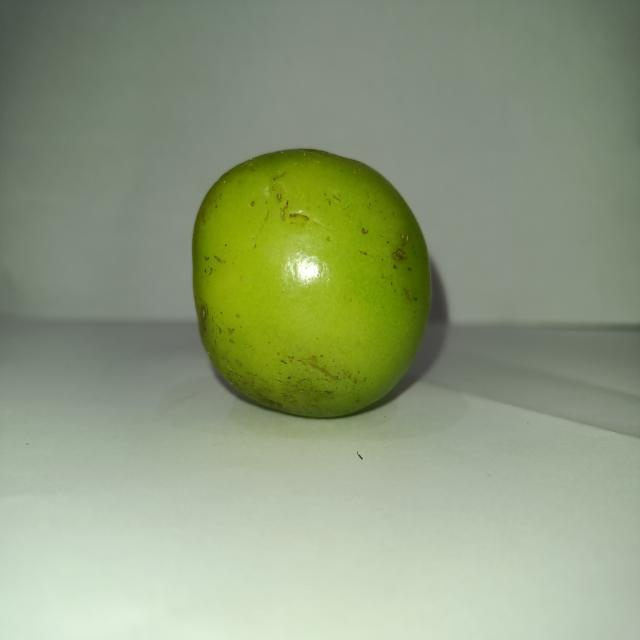Red: (190, 146, 432, 419)
